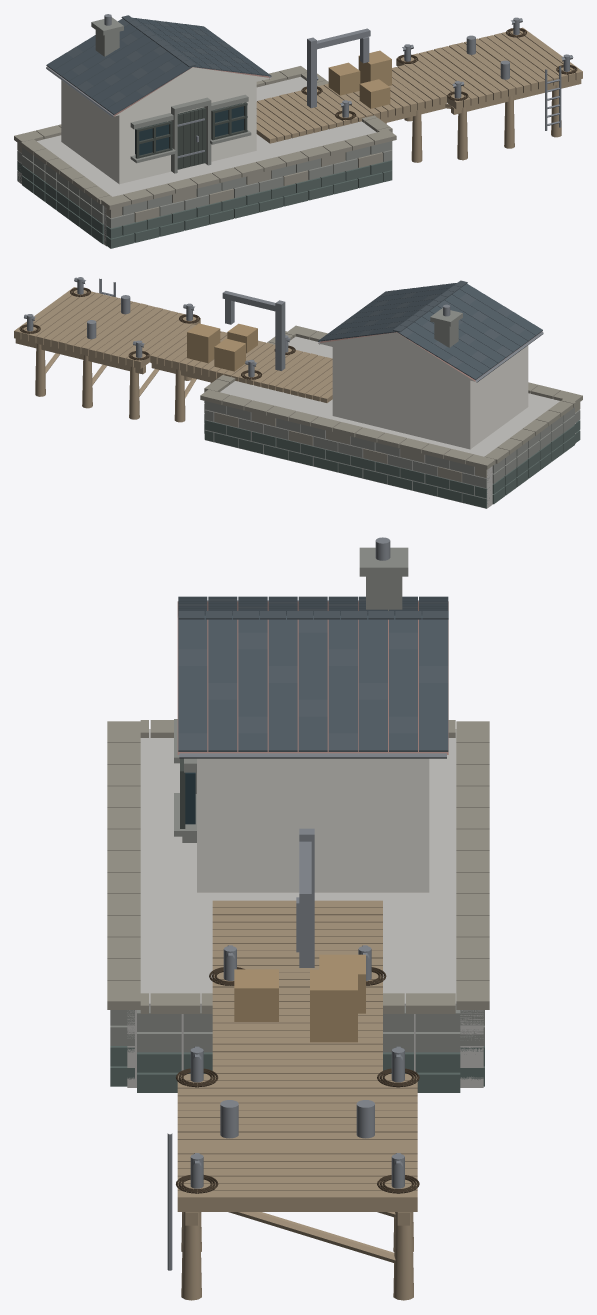
The model's file is harbor-dock.gltf.
3 views of the same model, one above another, from view 1: azimuth 30°, elevation 25°; view 2: azimuth 150°, elevation 25°; view 3: azimuth 270°, elevation 25° (orthographic). The views are drawn at different scales.
Parts seen in each view (by area): view 1: harbor-dock-quay-masonry, harbor-dock-pier-boards, harbor-dock-warehouse, harbor-dock-roof-courses, harbor-dock-main, harbor-dock-warehouse-joinery, harbor-dock-pier-supports, harbor-dock-mooring-fittings; view 2: harbor-dock-quay-masonry, harbor-dock-warehouse, harbor-dock-pier-boards, harbor-dock-main, harbor-dock-roof-courses, harbor-dock-pier-supports, harbor-dock-mooring-fittings, harbor-dock-warehouse-joinery; view 3: harbor-dock-pier-boards, harbor-dock-roof-courses, harbor-dock-main, harbor-dock-quay-masonry, harbor-dock-warehouse, harbor-dock-warehouse-joinery, harbor-dock-mooring-fittings, harbor-dock-pier-supports.
Part boxes in pixels (bbox=[...]): harbor-dock-quay-masonry: bbox=[14, 66, 396, 248]; harbor-dock-pier-boards: bbox=[256, 27, 582, 143]; harbor-dock-warehouse: bbox=[47, 66, 271, 184]; harbor-dock-roof-courses: bbox=[46, 15, 271, 114]; harbor-dock-main: bbox=[17, 28, 509, 246]; harbor-dock-warehouse-joinery: bbox=[46, 14, 271, 173]; harbor-dock-pier-supports: bbox=[380, 79, 581, 162]; harbor-dock-mooring-fittings: bbox=[301, 17, 577, 130]; harbor-dock-quay-masonry: bbox=[200, 325, 582, 508]; harbor-dock-warehouse: bbox=[318, 331, 542, 449]; harbor-dock-pier-boards: bbox=[14, 287, 332, 402]; harbor-dock-main: bbox=[87, 291, 575, 508]; harbor-dock-roof-courses: bbox=[318, 280, 542, 379]; harbor-dock-pier-supports: bbox=[15, 338, 216, 422]; harbor-dock-mooring-fittings: bbox=[19, 277, 295, 379]; harbor-dock-warehouse-joinery: bbox=[318, 304, 543, 382]; harbor-dock-pier-boards: bbox=[177, 900, 417, 1211]; harbor-dock-roof-courses: bbox=[178, 596, 448, 751]; harbor-dock-main: bbox=[127, 729, 483, 1138]; harbor-dock-quay-masonry: bbox=[107, 720, 489, 1092]; harbor-dock-warehouse: bbox=[177, 601, 448, 892]; harbor-dock-warehouse-joinery: bbox=[174, 537, 446, 842]; harbor-dock-mooring-fittings: bbox=[167, 945, 419, 1270]; harbor-dock-pier-supports: bbox=[181, 1212, 413, 1300].
Bounding box in the file's own units: 14.7 × 5.19 × 4.94.
